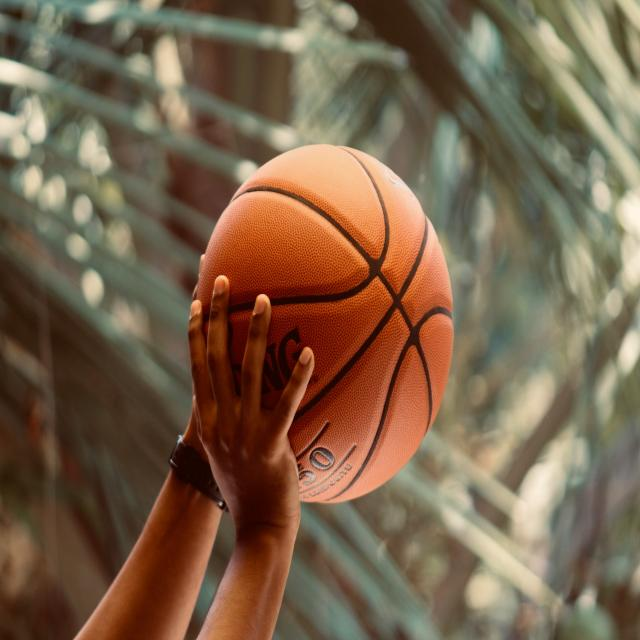Basketball: (196, 143, 455, 502)
